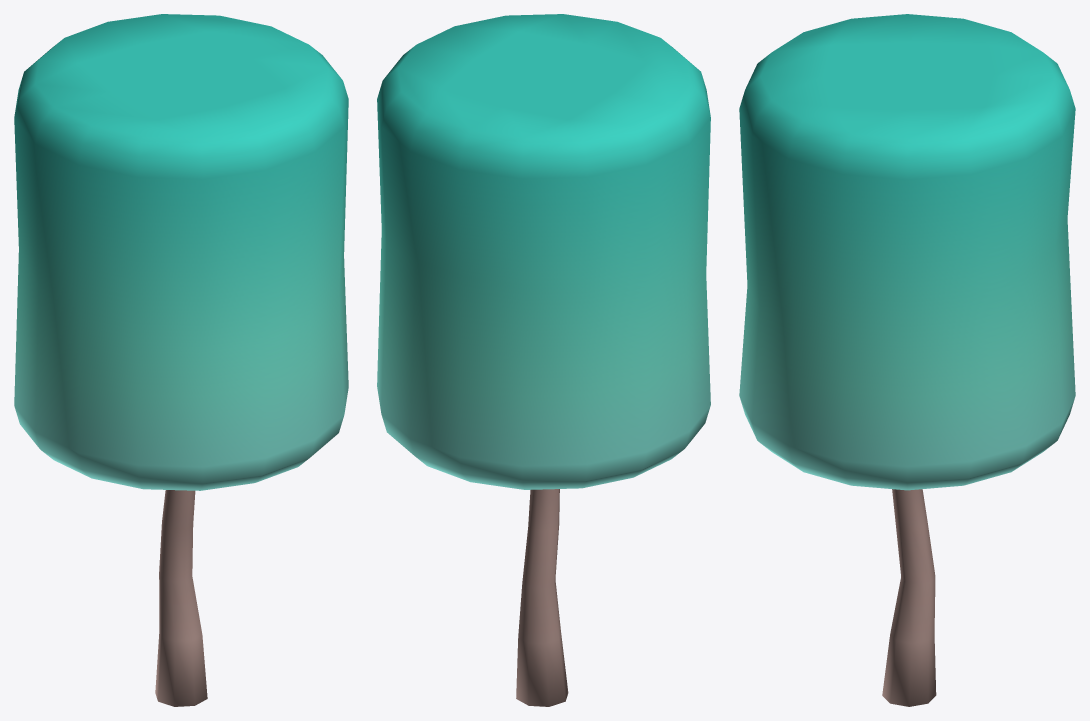
The model's file is Tree04_M_Blue.fbx.
3 renders of one model, left to right at view 1: azimuth 30°, elevation 25°; view 2: azimuth 150°, elevation 25°; view 3: azimuth 270°, elevation 25°, orthographic.
Parts seen in each view (by area): view 1: Tree04_M_Blue; view 2: Tree04_M_Blue; view 3: Tree04_M_Blue.
Part boxes in pixels (x1=…): Tree04_M_Blue: x1=14, y1=14, x2=348, y2=706; Tree04_M_Blue: x1=377, y1=14, x2=710, y2=706; Tree04_M_Blue: x1=739, y1=14, x2=1075, y2=706.
Bounding box in the file's own units: 4.65 × 9.51 × 4.65.
